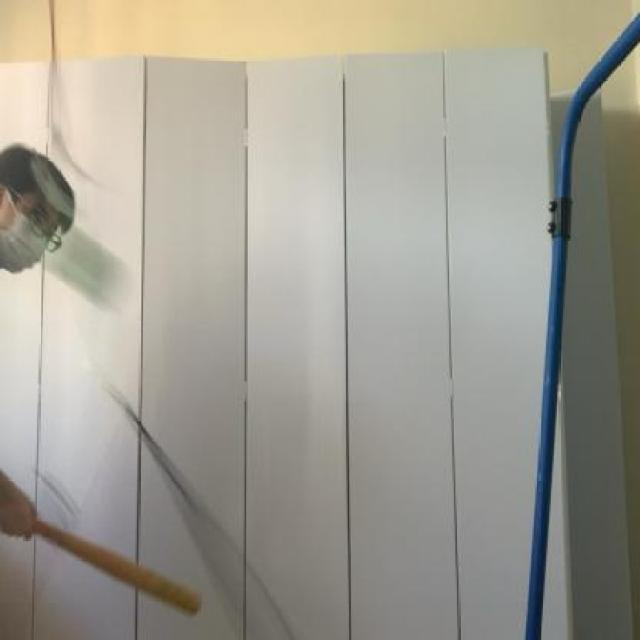baseball: (29, 189, 134, 316)
